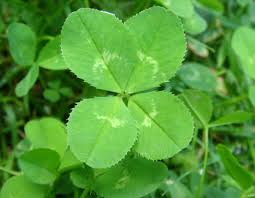4-clover: (59, 6, 193, 168)
